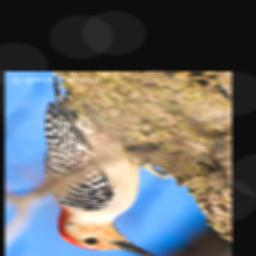Woodpecker: (43, 76, 158, 256)
